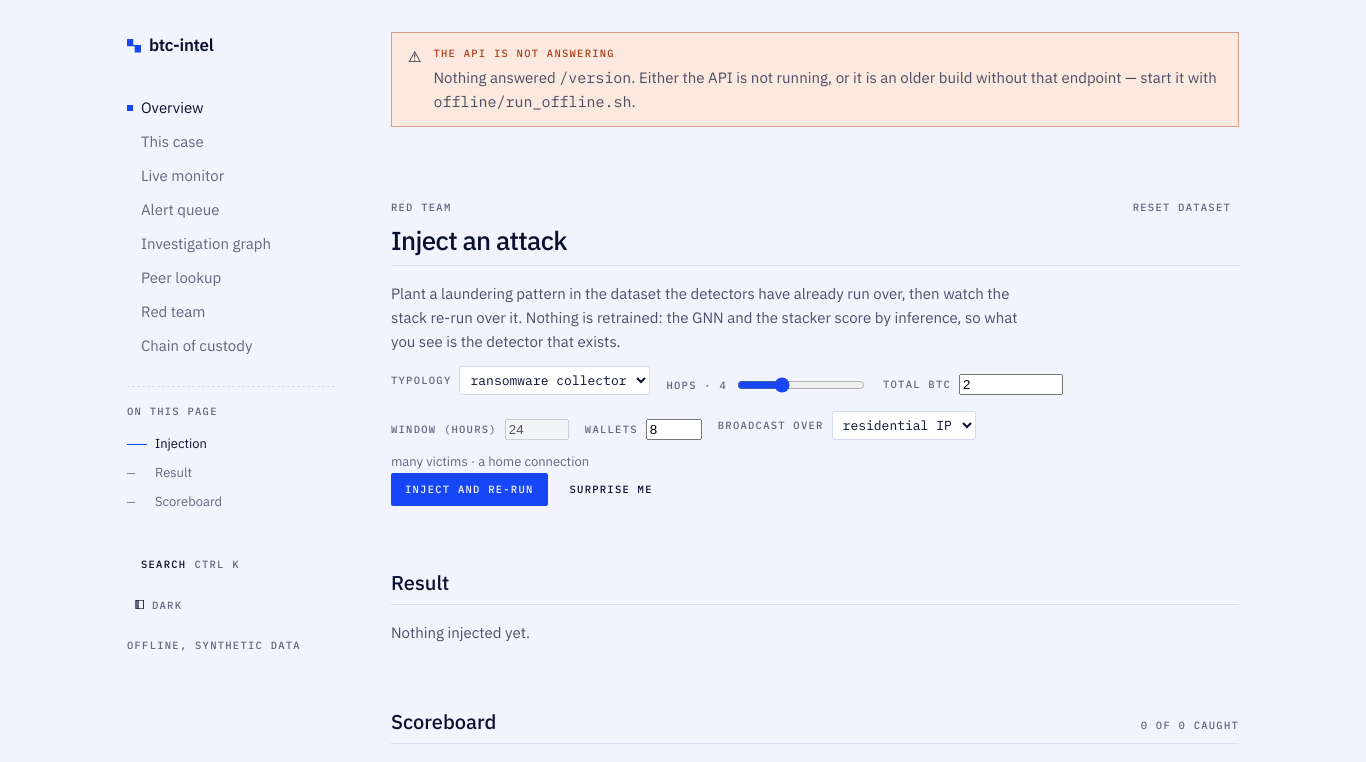
the red-team page › says plainly when nothing was detected, with every engine's score
This screenshot has width=1366, height=762.
Click the button "Inject and re-run": [469, 490] box x1=391 y1=473 x2=548 y2=506
(page scrolled)
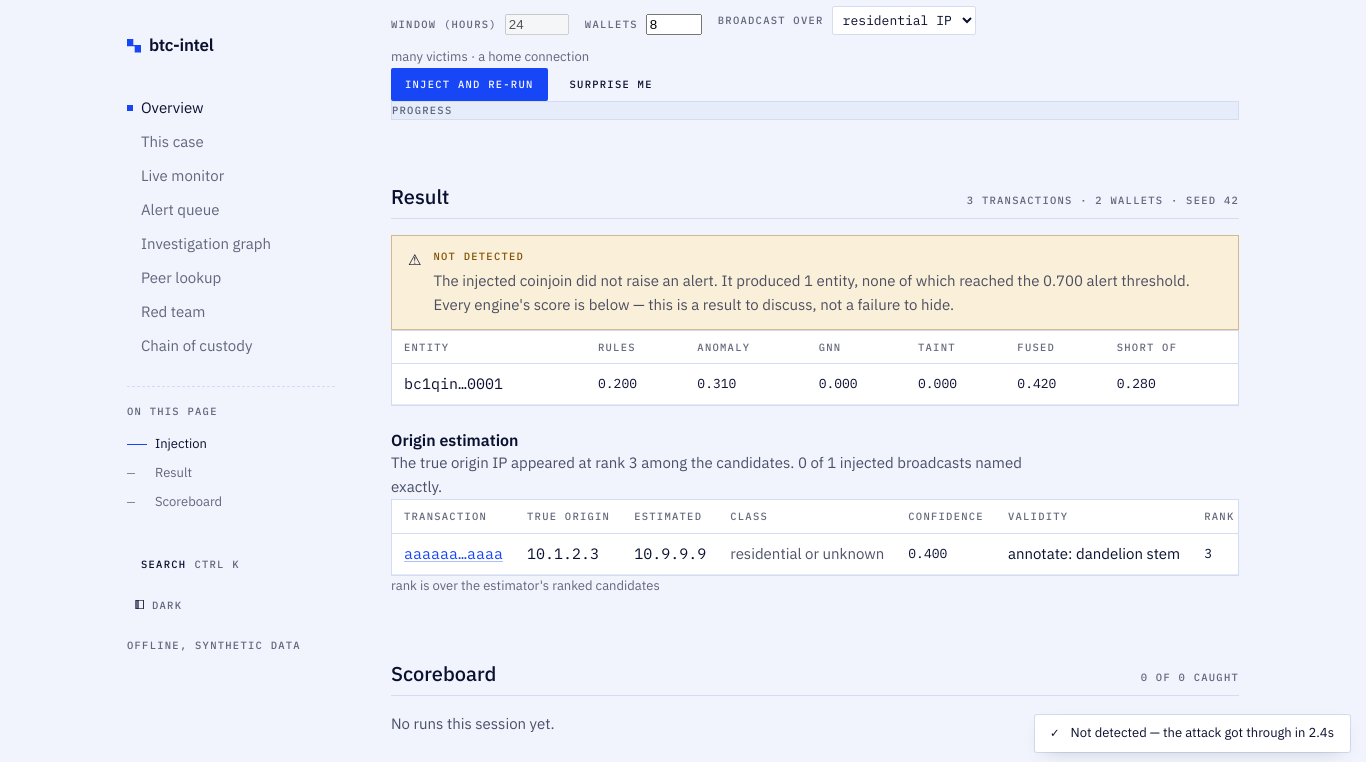
Expected: the text "did not raise an alert" is shown, x1=572 y1=271 x2=800 y2=290
Expected: the text "0.420" is shown, x1=1005 y1=364 x2=1105 y2=405
Expected: the text "0.280" is shown, x1=1105 y1=364 x2=1238 y2=405
